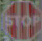Stop: (2, 2, 41, 38)
